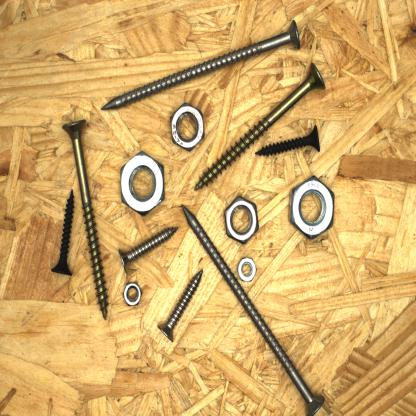screw: (179, 198, 329, 416), (99, 14, 304, 115), (191, 58, 329, 193), (59, 117, 110, 324), (153, 265, 207, 345), (113, 222, 181, 279), (253, 123, 325, 162), (50, 186, 76, 281)
